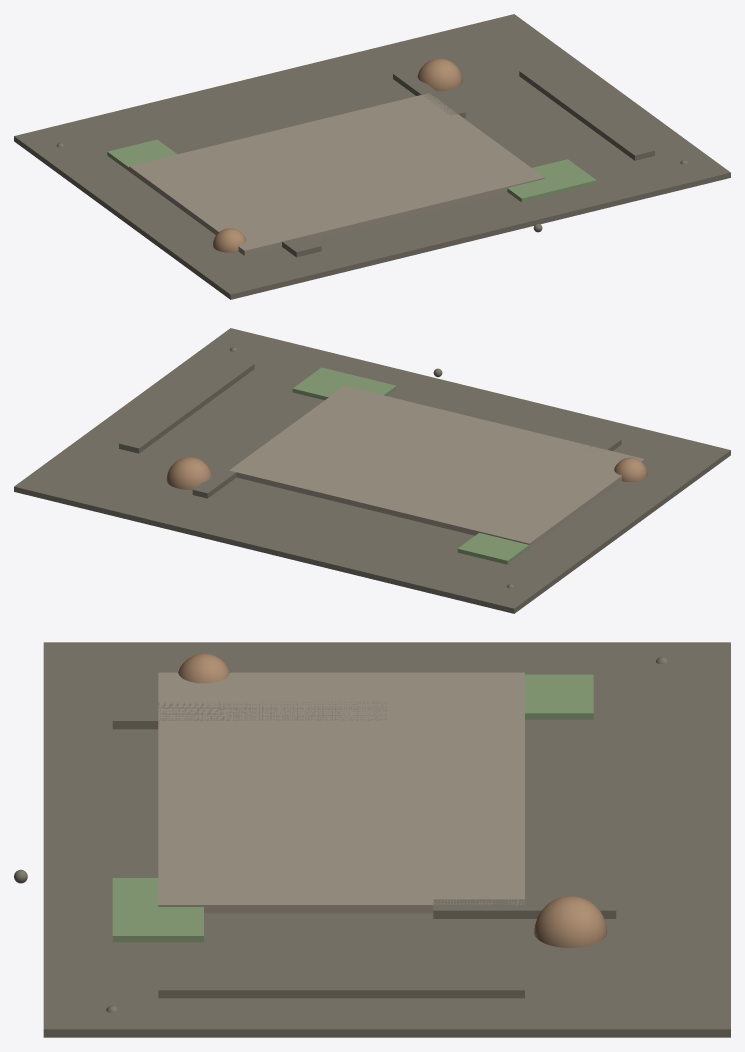
File: grime_dirt.glb
The picture shows the model from 3 angles, top to bottom: view 1: azimuth 30°, elevation 25°; view 2: azimuth 150°, elevation 25°; view 3: azimuth 270°, elevation 25°; orthographic projection. The views are drawn at different scales.
Parts seen in each view (by area): view 1: grime_main, grime_inner, drip_3, mold_1, rust_1, mold_2, drip_2, rust_2, drip_1; view 2: grime_main, grime_inner, drip_3, mold_1, mold_2, rust_1, drip_2, rust_2; view 3: grime_main, grime_inner, drip_3, mold_1, mold_2, drip_1, rust_1, drip_2, rust_2.
Part boxes in pixels (<box>): grime_main: <box>14,14,730,299</box>; grime_inner: <box>129,93,544,255</box>; drip_3: <box>519,66,654,160</box>; mold_1: <box>507,159,596,202</box>; rust_1: <box>417,58,462,91</box>; mold_2: <box>107,139,177,170</box>; drip_2: <box>393,70,465,117</box>; rust_2: <box>213,228,246,252</box>; drip_1: <box>282,235,321,257</box>; grime_main: <box>14,328,730,613</box>; grime_inner: <box>229,386,644,548</box>; drip_3: <box>119,359,254,453</box>; mold_1: <box>292,367,396,400</box>; mold_2: <box>457,533,529,564</box>; rust_1: <box>166,457,211,489</box>; drip_2: <box>192,447,257,498</box>; rust_2: <box>614,457,647,482</box>; grime_main: <box>43,642,730,1037</box>; grime_inner: <box>158,672,524,913</box>; drip_3: <box>158,974,524,998</box>; mold_1: <box>112,878,203,942</box>; mold_2: <box>525,674,593,719</box>; drip_1: <box>112,701,387,729</box>; rust_1: <box>534,896,607,947</box>; drip_2: <box>433,899,616,918</box>; rust_2: <box>178,653,229,683</box>.
Size of the model in its own units: 2 by 0.16 by 1.57.
